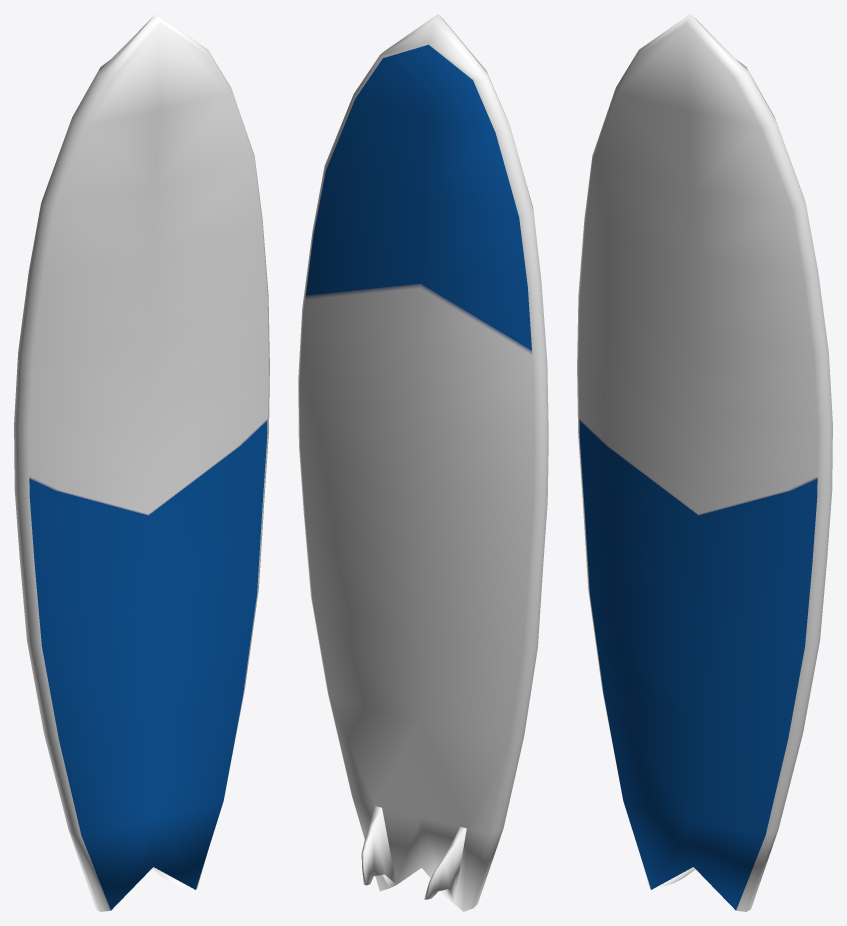
Rendered from Surfboard 4.fbx.
The picture shows the model from 3 angles, left to right: view 1: azimuth 30°, elevation 25°; view 2: azimuth 150°, elevation 25°; view 3: azimuth 330°, elevation 25°; orthographic projection. The views are drawn at different scales.
Parts seen in each view (by area): view 1: Surfboard.004; view 2: Surfboard.004; view 3: Surfboard.004.
Part boxes in pixels (x1,y1,x2,y2): Surfboard.004: (14, 14, 269, 911); Surfboard.004: (298, 14, 548, 911); Surfboard.004: (577, 14, 832, 911).
Bounding box in the file's own units: 0.5651 × 1.92 × 0.1852.
